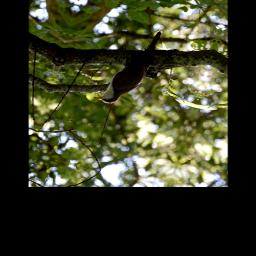Cuckoo: (92, 20, 166, 112)
